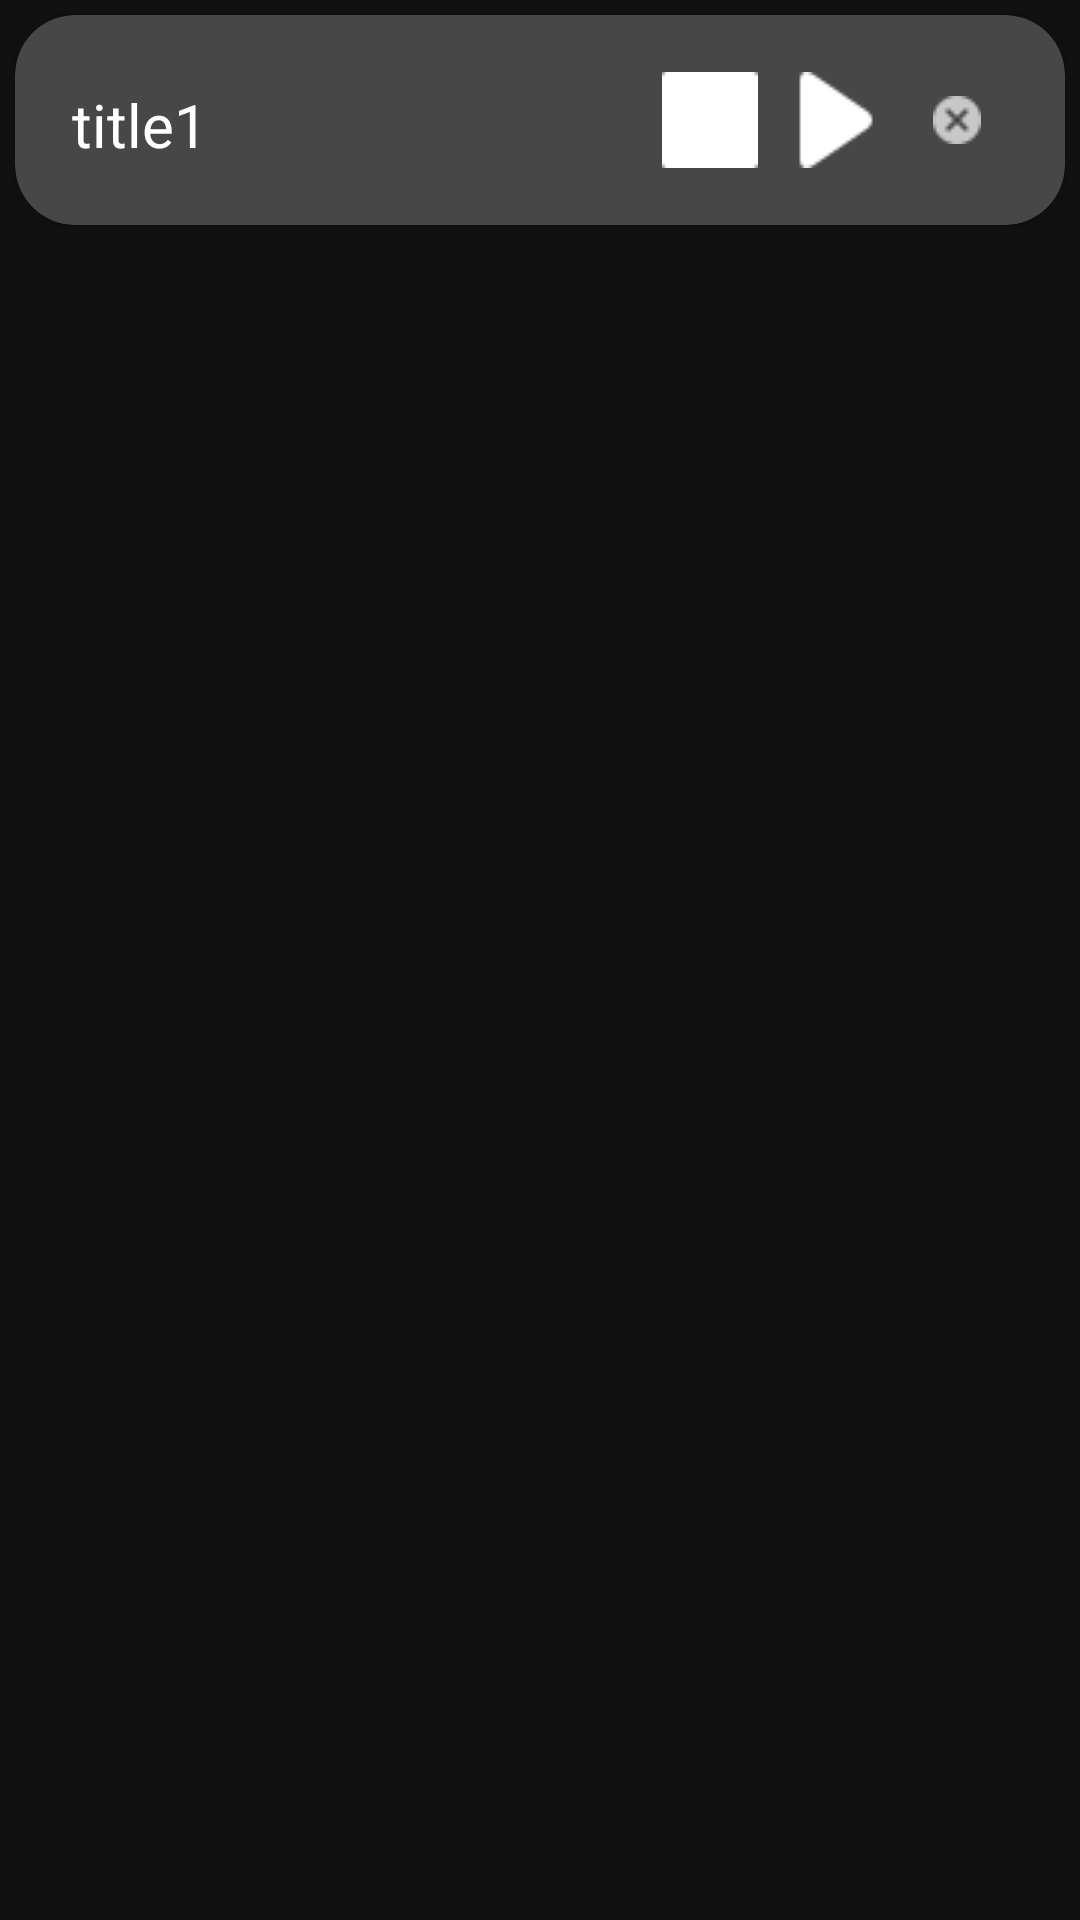

Where to tap for icons on this 1080 × 1920 app screen, as point (x, y):
delete: point (957, 120)
play: point (836, 120)
stop: point (710, 120)
